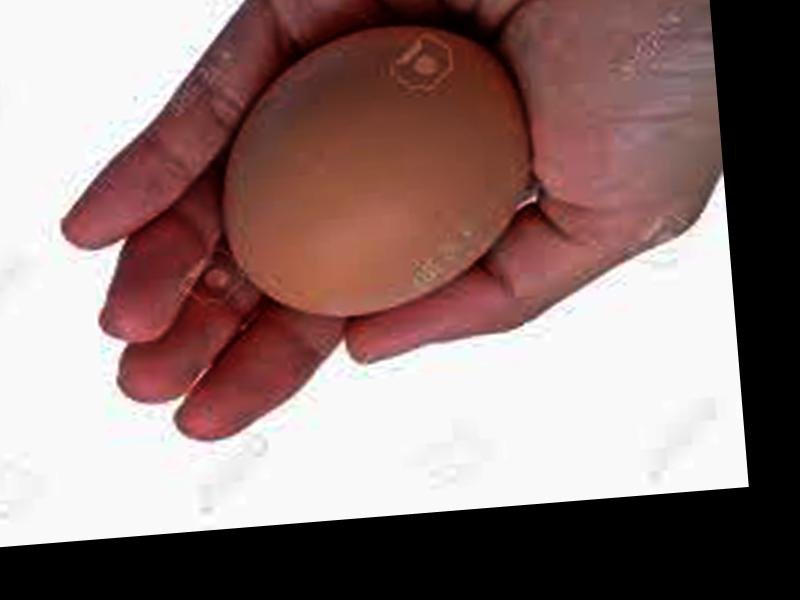Eggs: (208, 18, 544, 325)
